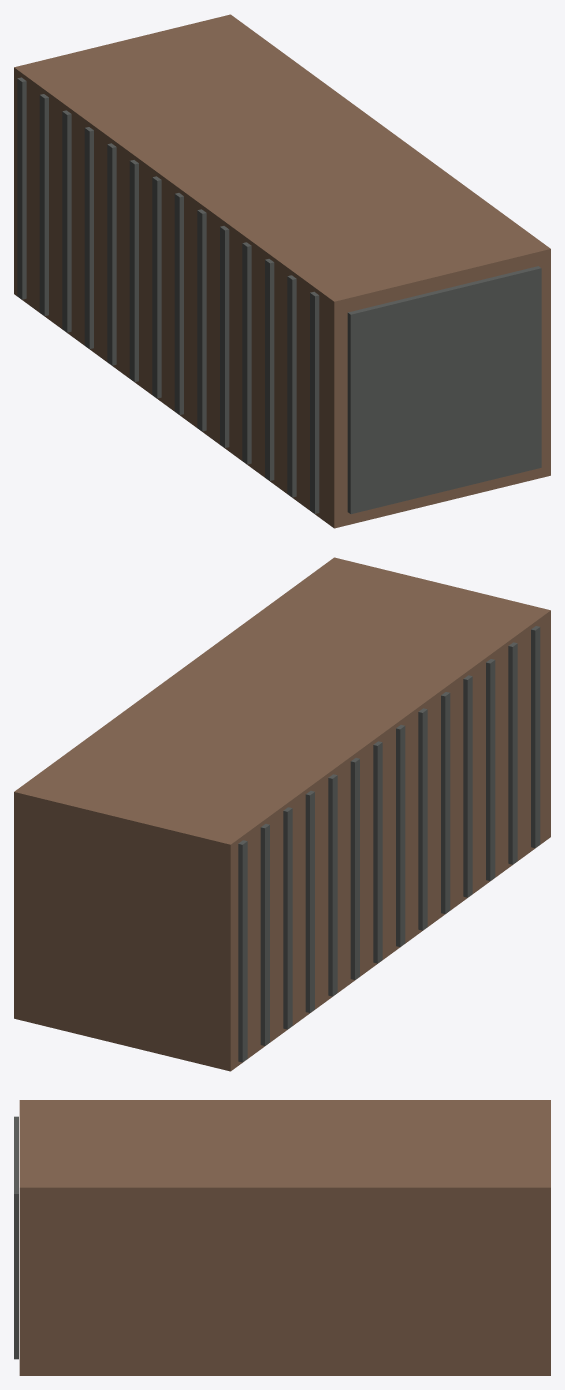
The model's file is i_container.glb.
3 renders of one model, top to bottom at view 1: azimuth 30°, elevation 25°; view 2: azimuth 150°, elevation 25°; view 3: azimuth 270°, elevation 25°, orthographic. The views are drawn at different scales.
Visible parts, largest first — view 1: body; view 2: body; view 3: body.
Part boxes in pixels (box(x1,y1,x2,y2)): body: box(14, 14, 550, 528); body: box(14, 557, 550, 1071); body: box(14, 1100, 550, 1375).
Size of the model in its own units: 2.55 by 2.5 by 6.47.
